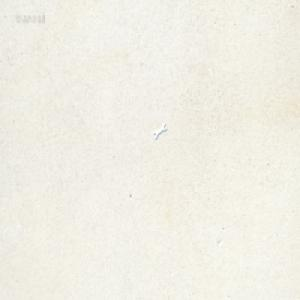Wrench: (153, 123, 167, 139)
